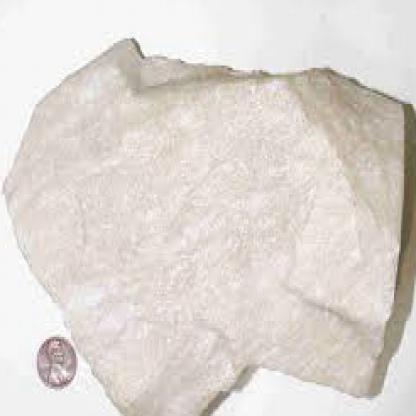Metamorphic_Quartize: (0, 22, 415, 414)
